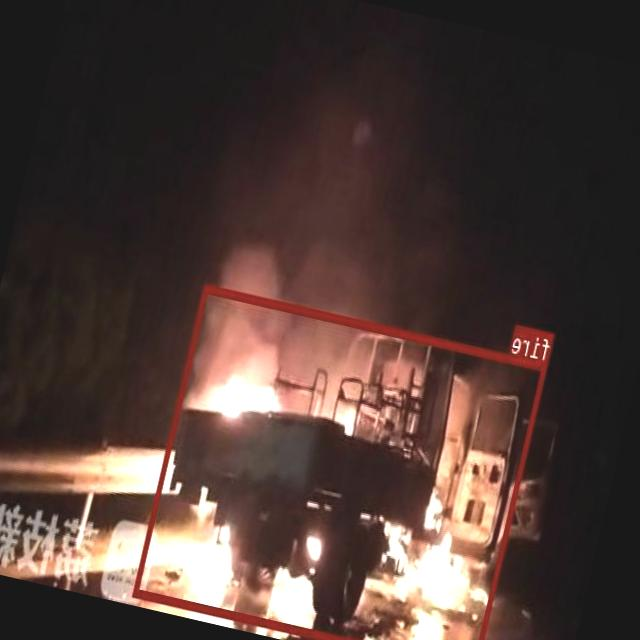fire: (133, 283, 548, 640)
